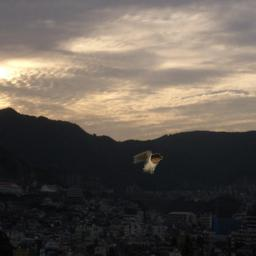Swallow: (133, 150, 163, 174)
